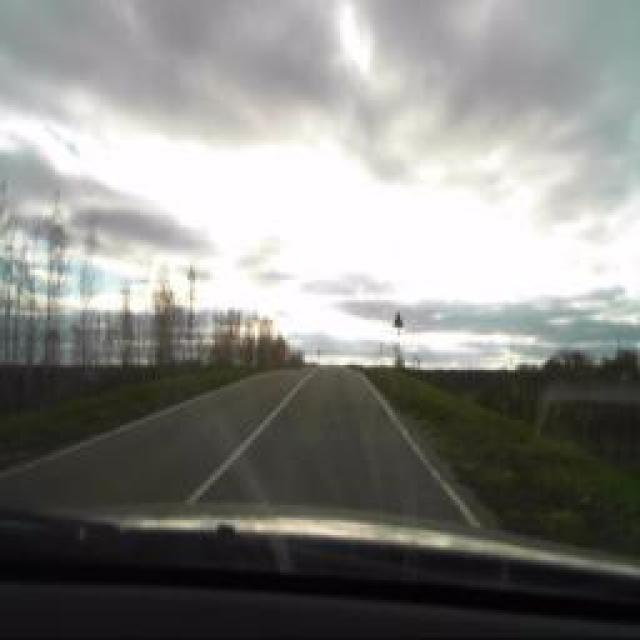sign: (393, 310, 405, 330)
